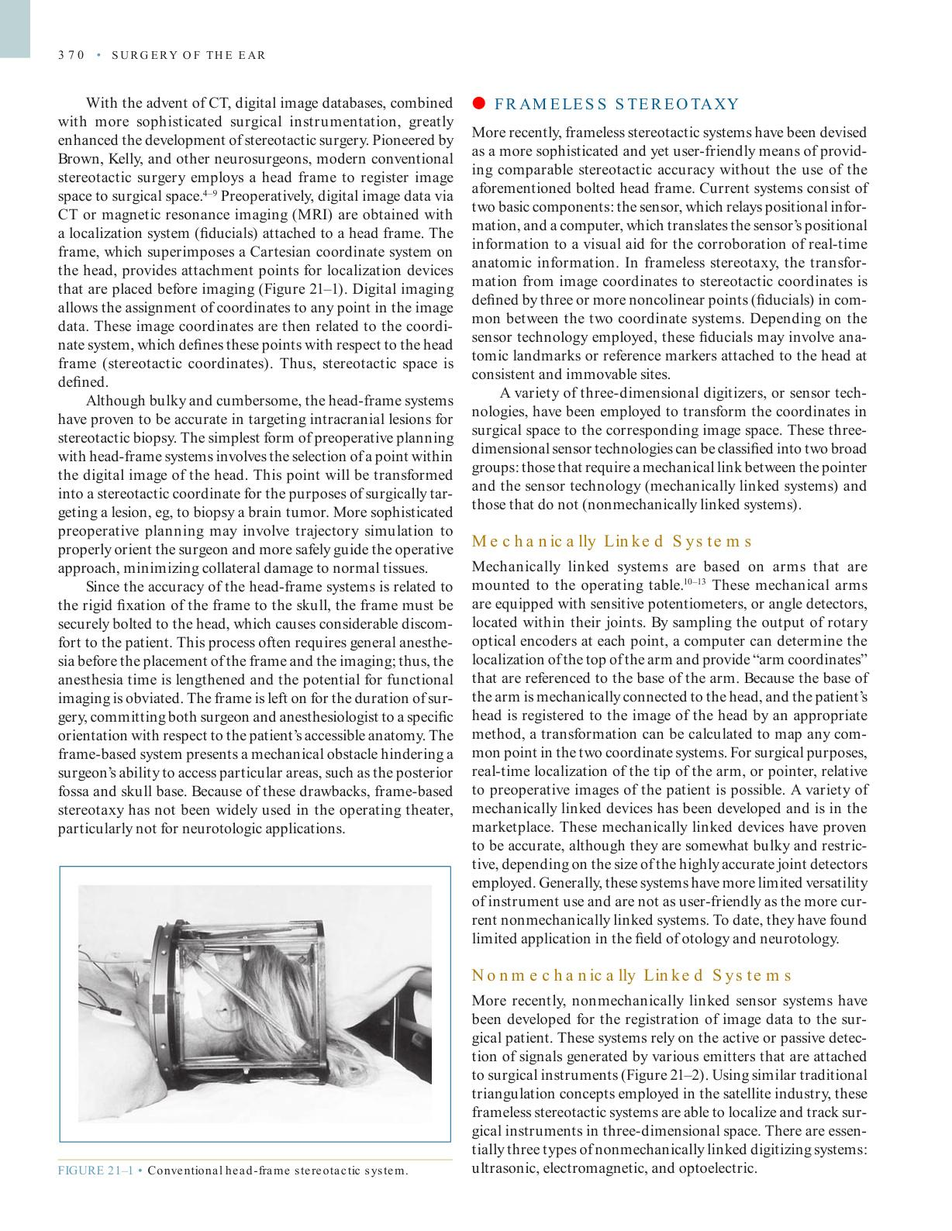caption: (57, 1163, 409, 1178)
header: (110, 47, 267, 61)
image: (79, 885, 431, 1123)
section-heading: (494, 96, 739, 111)
sub-section-heading: (470, 965, 794, 986), (471, 530, 754, 552)
text: (53, 93, 456, 841), (468, 557, 874, 948), (469, 123, 871, 515), (470, 990, 870, 1180)
